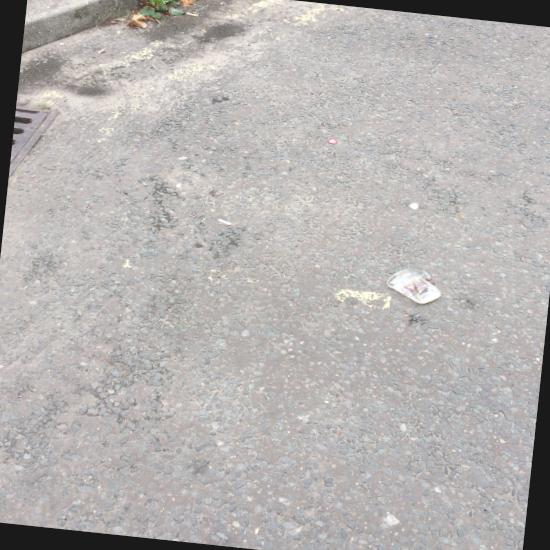Drink carton: (210, 267, 285, 326)
Magazine paper: (0, 216, 97, 334)
Normal paper: (0, 322, 19, 367)
Unlabeled litter: (156, 466, 192, 499)
